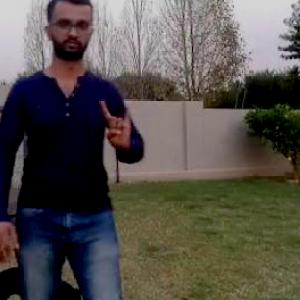takeoff-hand: (97, 92, 142, 157)
